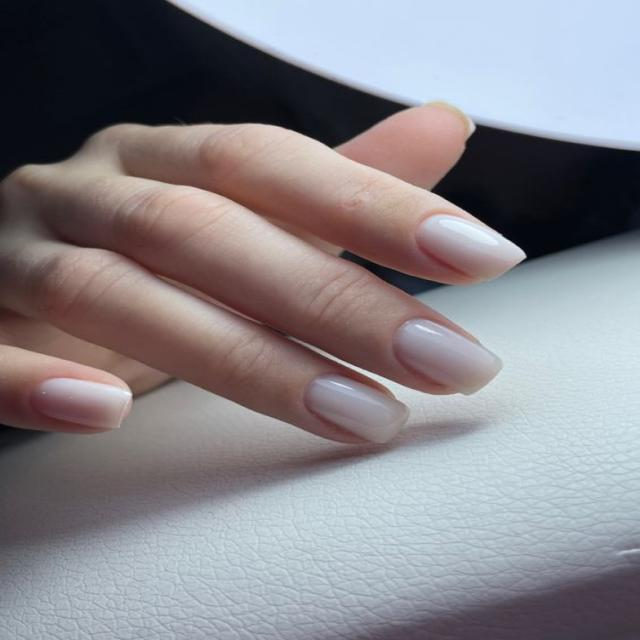Fingernail: (395, 319, 501, 394), (305, 377, 408, 443), (418, 216, 524, 280), (33, 378, 130, 429)
